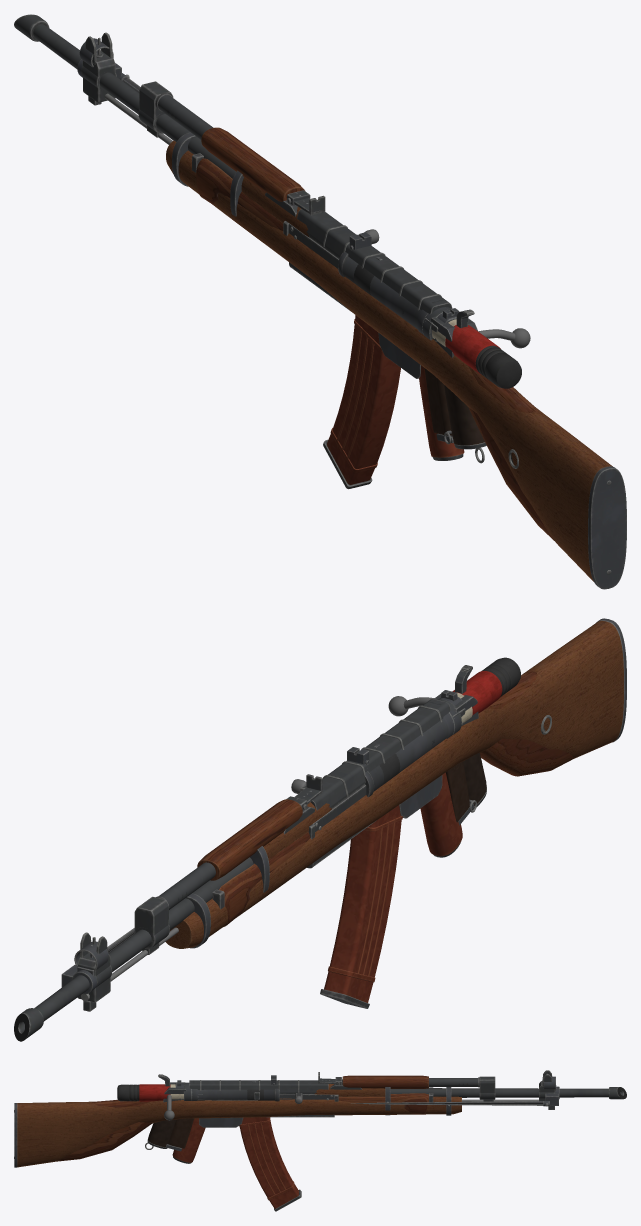
File: weapons.glb
3 renders of one model, top to bottom at view 1: azimuth 30°, elevation 25°; view 2: azimuth 150°, elevation 25°; view 3: azimuth 270°, elevation 25°, orthographic. The views are drawn at different scales.
Visible parts, largest first — view 1: mosin_body, akm_body, MAG_akm, handflare_body, flaregun_body, BARREL_BREAK_flaregun, pm_body; view 2: mosin_body, akm_body, MAG_akm, handflare_body, BARREL_BREAK_flaregun, flaregun_body, pm_body; view 3: mosin_body, akm_body, MAG_akm, handflare_body, flaregun_body, BARREL_BREAK_flaregun, pm_body.
Boxes of the visible parts, x1,y1,x2,y2 form: mosin_body: (77, 38, 626, 589); akm_body: (14, 14, 554, 540); MAG_akm: (323, 315, 400, 489); handflare_body: (432, 319, 521, 388); flaregun_body: (422, 307, 486, 463); BARREL_BREAK_flaregun: (338, 252, 427, 334); pm_body: (424, 368, 452, 444); mosin_body: (61, 618, 626, 994); akm_body: (14, 671, 573, 1041); MAG_akm: (320, 805, 402, 1008); handflare_body: (452, 657, 520, 722); BARREL_BREAK_flaregun: (364, 713, 454, 797); flaregun_body: (434, 691, 486, 810); pm_body: (446, 761, 476, 822); mosin_body: (14, 1075, 559, 1167); akm_body: (57, 1070, 626, 1163); MAG_akm: (239, 1117, 301, 1211); handflare_body: (117, 1084, 183, 1101); flaregun_body: (145, 1082, 191, 1149); BARREL_BREAK_flaregun: (191, 1088, 279, 1101); pm_body: (168, 1118, 194, 1148).
Size of the model in its own units: 0.1 by 0.2835 by 1.16.
Materials: 7 (7 with a texture image).
